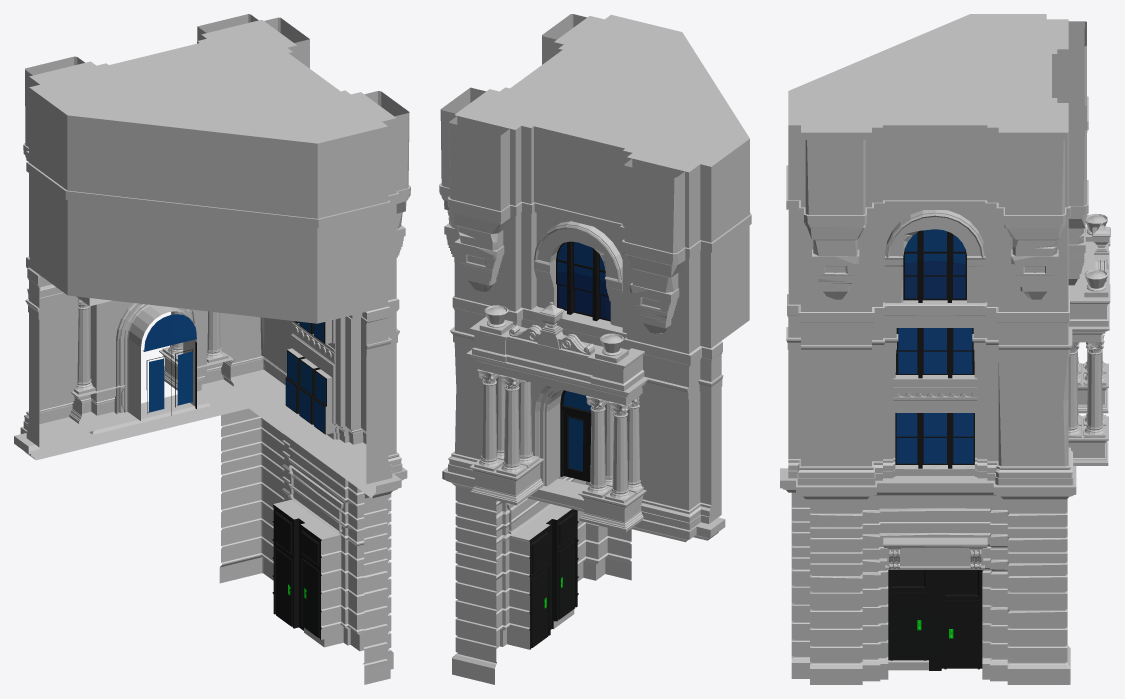
The model's file is Building_Brick00.fbx.
3 views of the same model, side by side, from view 1: azimuth 30°, elevation 25°; view 2: azimuth 150°, elevation 25°; view 3: azimuth 270°, elevation 25° (orthographic).
Parts seen in each view (by area): view 1: SM_City_Building_Brick_01.mo; view 2: SM_City_Building_Brick_01.mo; view 3: SM_City_Building_Brick_01.mo.
Part boxes in pixels (x1,y1,x2,y2): SM_City_Building_Brick_01.mo: (14,14,410,684); SM_City_Building_Brick_01.mo: (439,14,751,684); SM_City_Building_Brick_01.mo: (780,14,1110,684).
Size of the model in its own units: 927 by 1828 by 994.
